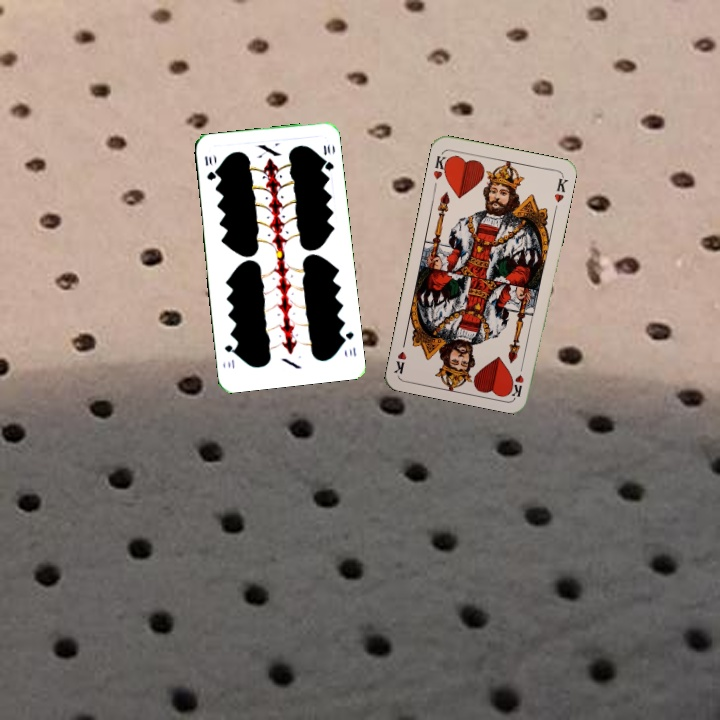G10: (338, 327, 359, 360), (201, 152, 218, 183)
HK: (508, 358, 527, 399), (429, 149, 452, 182)
